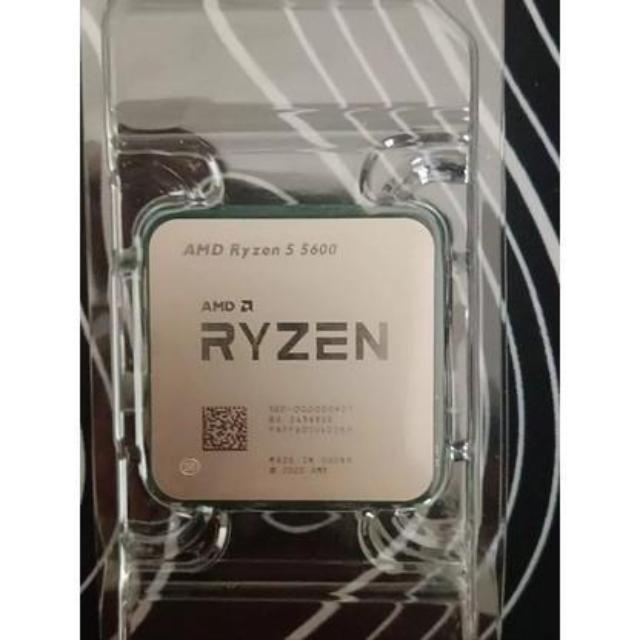CPU: (143, 208, 437, 510)
